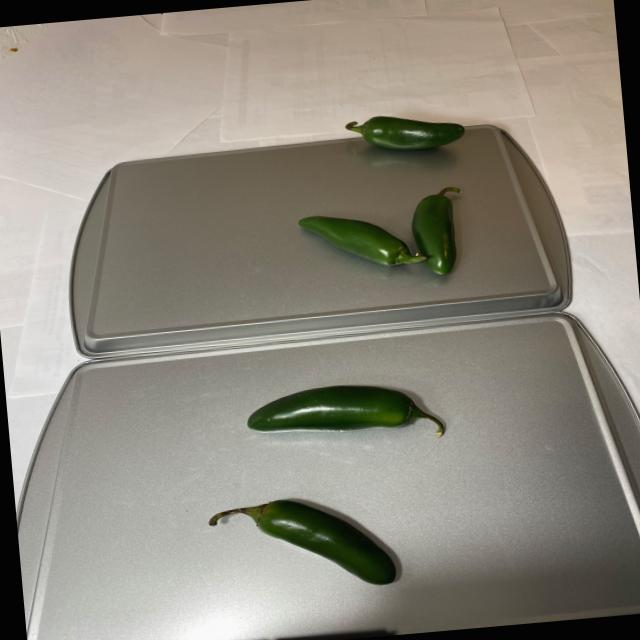chilli: (194, 371, 466, 593), (280, 105, 491, 310)
